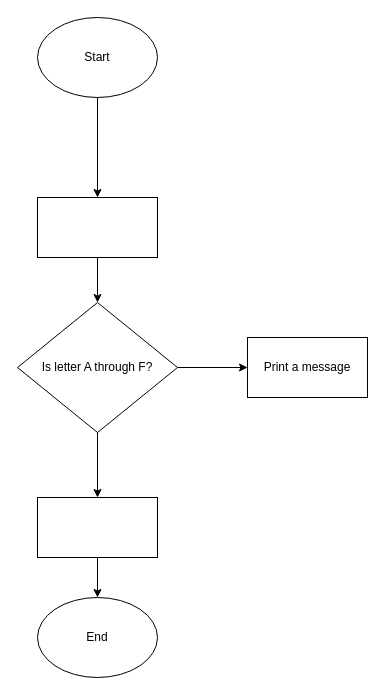
This 385x695 diagram has some shape labels left out. The centre of each missing label's shape, as x and y in pixels:
Print "unknown": (97,527)
Prompt for grade letter: (97,227)
